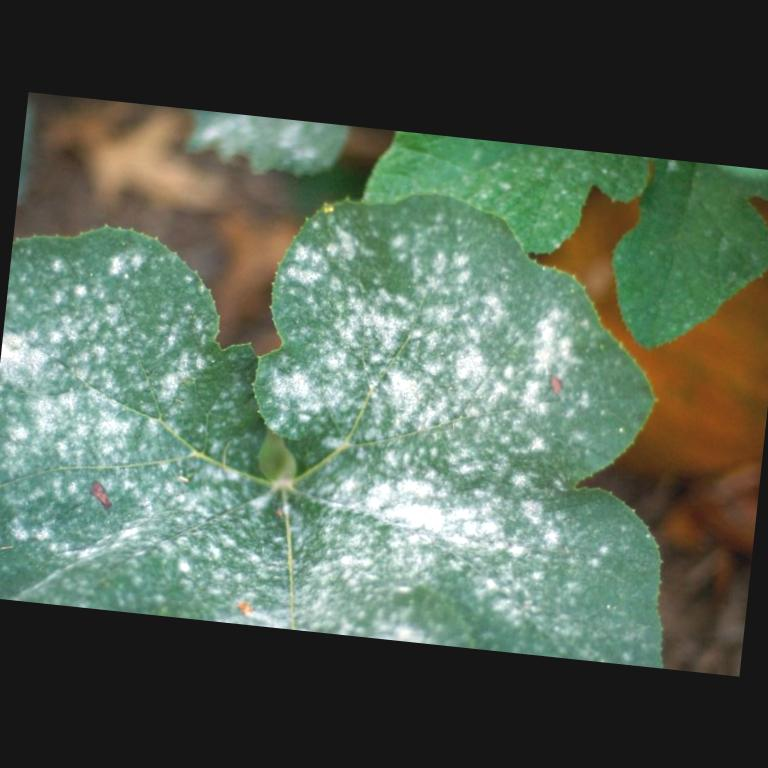powdery-mildew: (316, 260, 568, 476), (324, 474, 583, 654), (14, 297, 208, 468)
